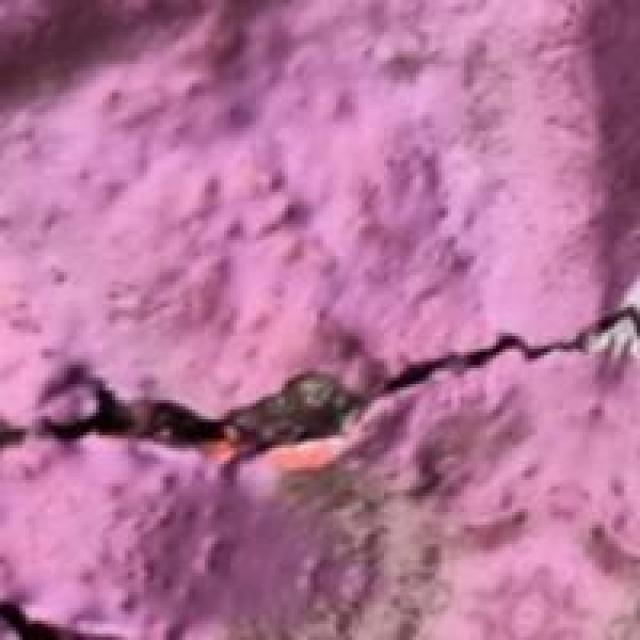crack: (3, 288, 637, 493)
